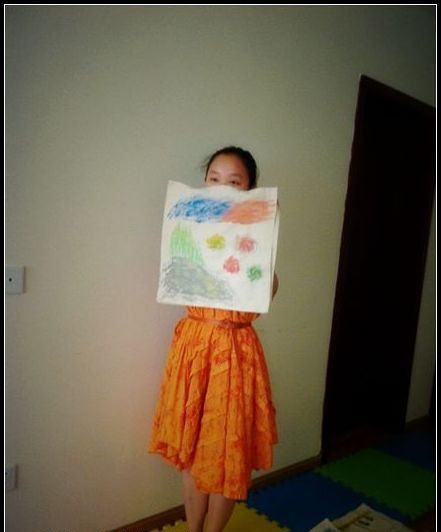face: (204, 156, 247, 214)
